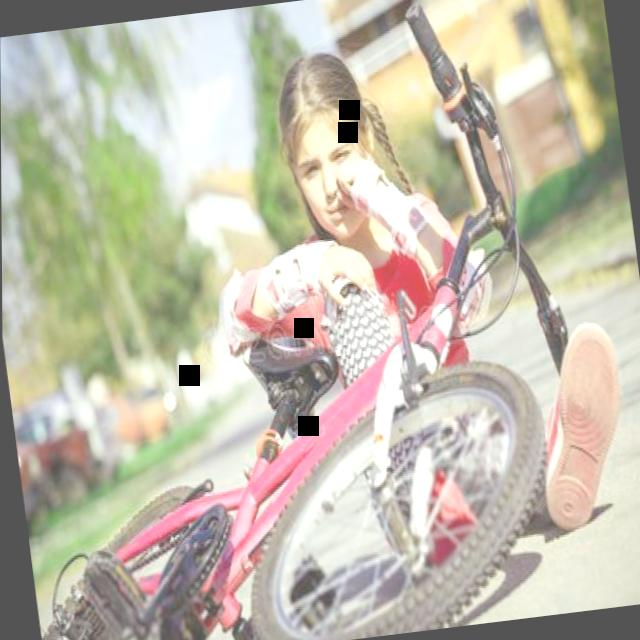Fall-Detected: (139, 0, 619, 510)
